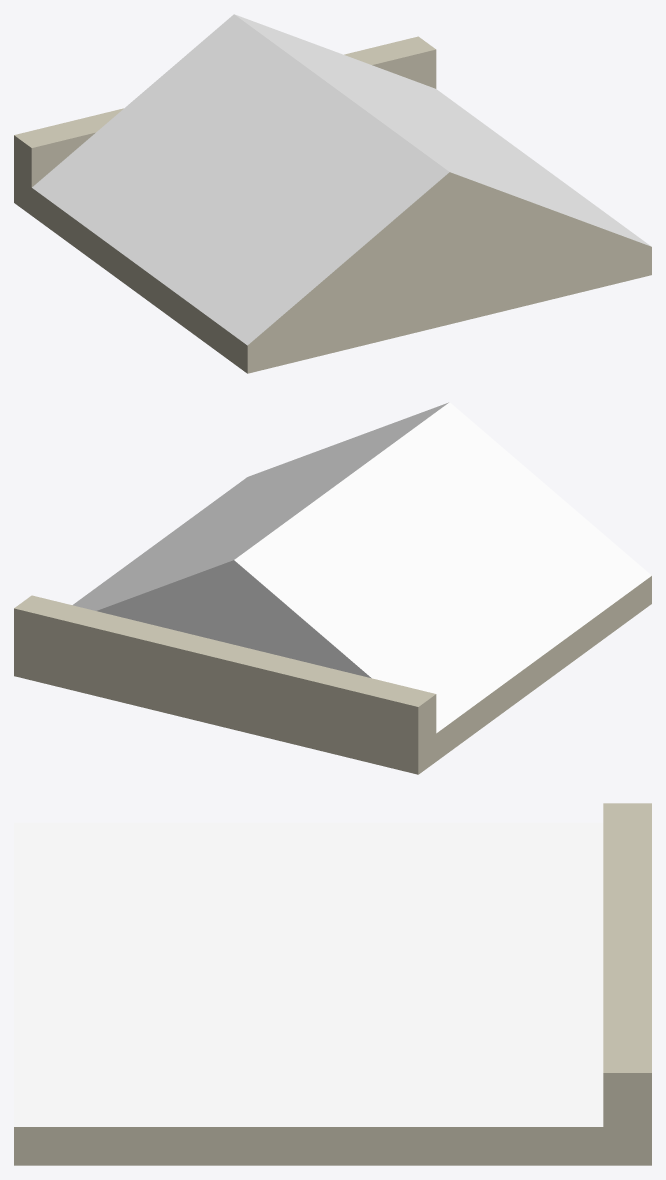
The model's file is Roof 13.FBX.
The picture shows the model from 3 angles, top to bottom: view 1: azimuth 30°, elevation 25°; view 2: azimuth 150°, elevation 25°; view 3: azimuth 270°, elevation 25°; orthographic projection. The views are drawn at different scales.
Parts seen in each view (by area): view 1: Group217; view 2: Group217; view 3: Group217.
Part boxes in pixels (x1=…): Group217: x1=14, y1=14, x2=651, y2=373; Group217: x1=14, y1=402, x2=651, y2=774; Group217: x1=14, y1=803, x2=651, y2=1165.
Size of the model in its own units: 29.53 by 10.63 by 29.53.
